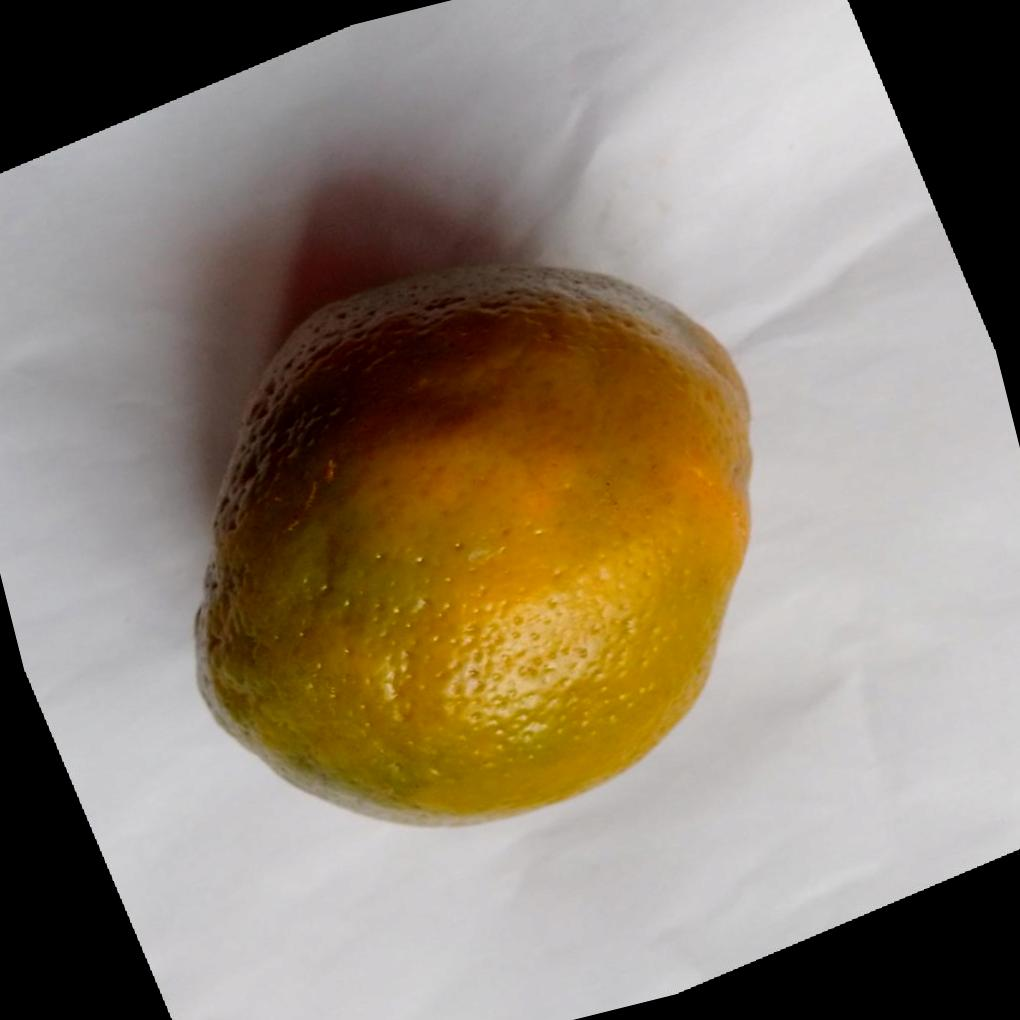FreshGuava: (195, 258, 759, 827)
